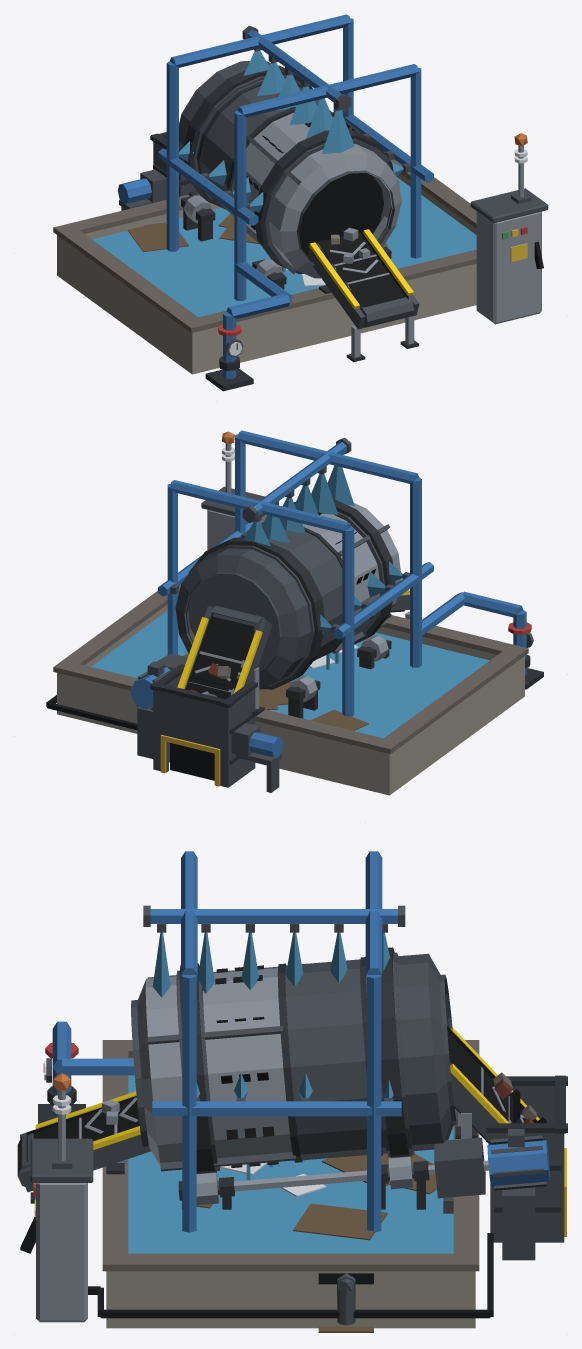
Rendered from station_lavage_t2.glb.
3 renders of one model, top to bottom at view 1: azimuth 30°, elevation 25°; view 2: azimuth 150°, elevation 25°; view 3: azimuth 270°, elevation 25°, orthographic. The views are drawn at different scales.
Visible parts, largest first — view 1: pieces_bleu.010, pieces_beton.004, bassin_eau.002, tambour_crible.002, pieces_pierre.009, armoire.008, pieces_acier_sombre.015, tambour_sortie_fond.002, tambour_debourbeur.002, pieces_noir.015, pieces_fonte.015, tambour_bandage_0.003 (+16 smaller); view 2: pieces_bleu.010, pieces_beton.004, bassin_eau.002, pieces_acier_sombre.015, tambour_debourbeur.002, pieces_pierre.009, pieces_noir.015, tambour_bandage_bord_1.002, pieces_fonte.015, tambour_crible.002, tambour_bandage_1.004, pieces_acier.015 (+12 smaller); view 3: pieces_bleu.010, tambour_debourbeur.002, bassin_eau.002, tambour_crible.002, pieces_beton.004, pieces_acier_sombre.015, pieces_pierre.009, pieces_noir.015, armoire.008, pieces_fonte.015, pieces_boue.002, galets_acier.002 (+19 smaller).
Boxes of the visible parts, box(x1,y1,x2,y2) form: pieces_bleu.010: box(117, 14, 433, 378); pieces_beton.004: box(57, 173, 476, 374); bassin_eau.002: box(92, 177, 476, 317); tambour_crible.002: box(231, 112, 401, 278); pieces_pierre.009: box(53, 151, 476, 332); armoire.008: box(476, 211, 541, 324); pieces_acier_sombre.015: box(119, 25, 531, 329); tambour_sortie_fond.002: box(299, 173, 383, 258); tambour_debourbeur.002: box(179, 61, 332, 216); pieces_noir.015: box(317, 230, 543, 307); pieces_fonte.015: box(150, 132, 418, 391); tambour_bandage_0.003: box(254, 129, 393, 274); pieces_bleu.010: box(130, 430, 526, 757); pieces_beton.004: box(57, 604, 524, 795); bassin_eau.002: box(91, 611, 489, 738); pieces_acier_sombre.015: box(130, 438, 409, 792); tambour_debourbeur.002: box(175, 529, 342, 689); pieces_pierre.009: box(53, 585, 528, 753); pieces_noir.015: box(46, 610, 404, 780); tambour_bandage_bord_1.002: box(188, 545, 314, 686); pieces_fonte.015: box(150, 613, 543, 764); tambour_crible.002: box(302, 503, 401, 643); tambour_bandage_1.004: box(188, 537, 323, 689); pieces_acier.015: box(189, 443, 409, 708); pieces_bleu.010: box(52, 851, 550, 1232); tambour_debourbeur.002: box(285, 953, 453, 1160); bassin_eau.002: box(128, 1075, 453, 1253); tambour_crible.002: box(137, 968, 292, 1166); pieces_beton.004: box(106, 1057, 475, 1328); pieces_acier_sombre.015: box(17, 905, 564, 1325); pieces_pierre.009: box(102, 1040, 479, 1271); pieces_noir.015: box(20, 1026, 537, 1318); armoire.008: box(36, 1183, 87, 1322); pieces_fonte.015: box(30, 1075, 567, 1212); pieces_boue.002: box(196, 1153, 436, 1332); galets_acier.002: box(196, 1156, 488, 1205).
Bounding box in the file's own units: 1.5 × 0.9315 × 1.5.
